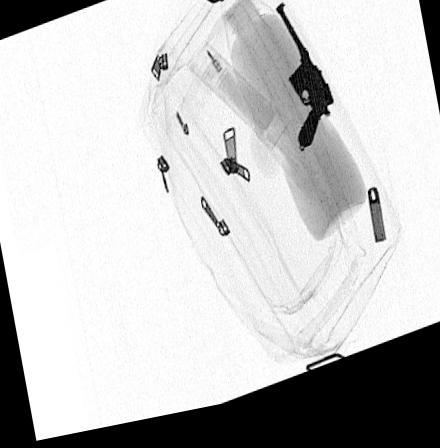Gun: (273, 13, 335, 166)
